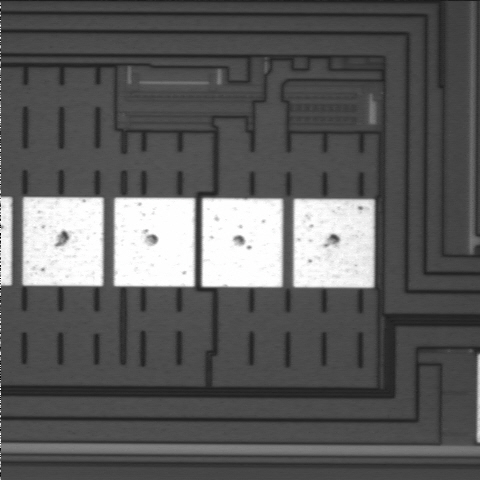pad: (23, 197, 104, 286), (114, 198, 195, 287), (202, 198, 283, 287), (293, 199, 374, 288)
